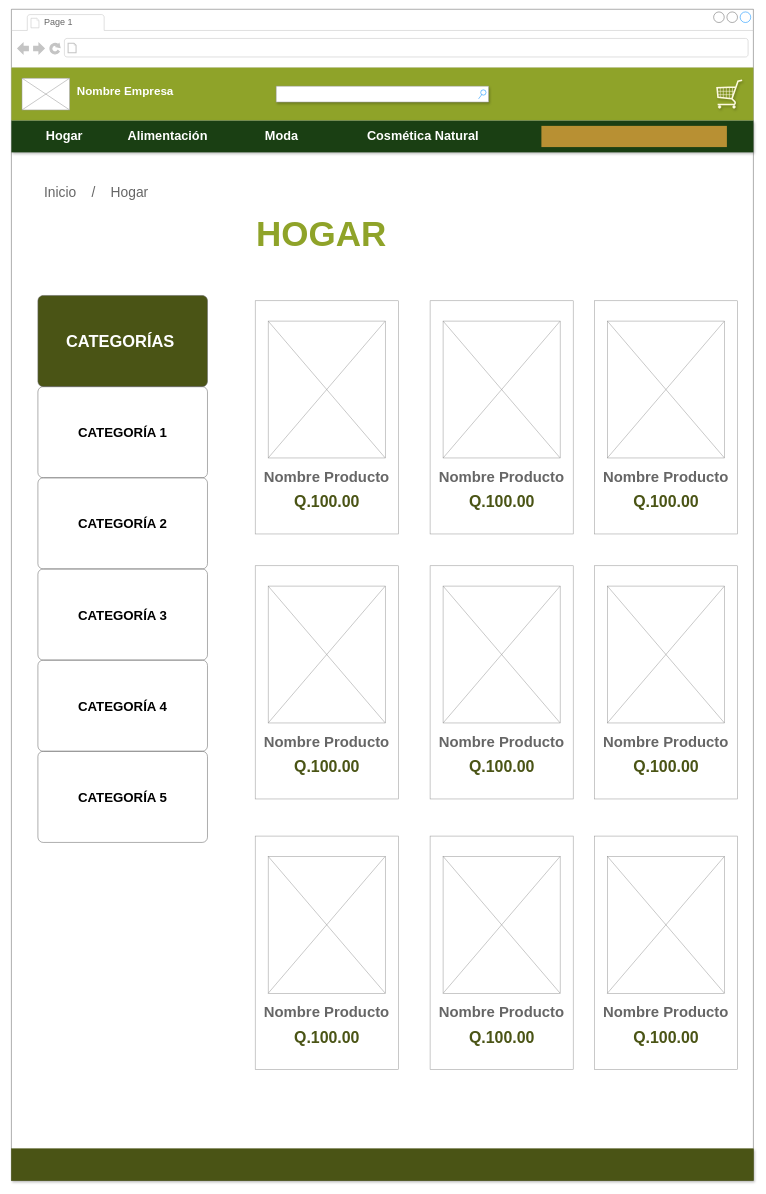
Some shapes in this 766 by 1194 pixel diagram are drawn without their labels. Here are the shapes that lost their labels. From the top down, the centre of each, then its label:
the point at 146,48: https://www.draw.io
the point at 382,94: Search
the point at 634,136: Blog Contáctanos
